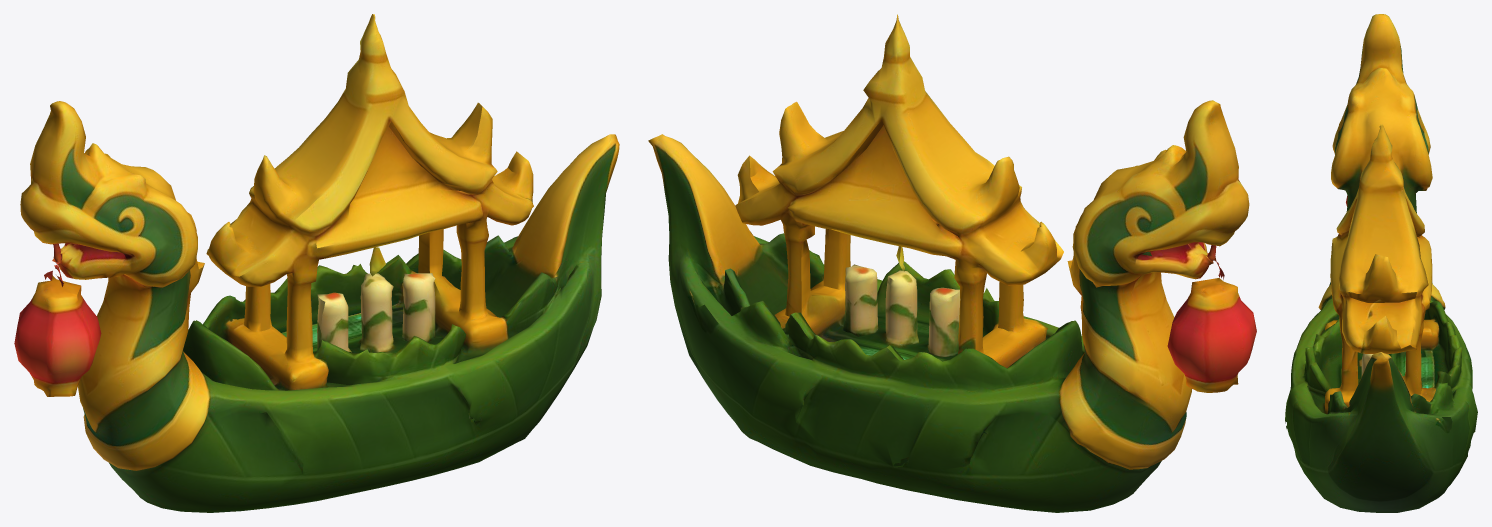
File: giant1.glb
3 renders of one model, left to right at view 1: azimuth 30°, elevation 25°; view 2: azimuth 150°, elevation 25°; view 3: azimuth 270°, elevation 25°, orthographic. The views are drawn at different scales.
Parts seen in each view (by area): view 1: tripo_node_dbdd461d-368f-43f1-b494-fdf68d4070e1; view 2: tripo_node_dbdd461d-368f-43f1-b494-fdf68d4070e1; view 3: tripo_node_dbdd461d-368f-43f1-b494-fdf68d4070e1.
Part boxes in pixels (<box>): tripo_node_dbdd461d-368f-43f1-b494-fdf68d4070e1: <box>14,14,619,512</box>; tripo_node_dbdd461d-368f-43f1-b494-fdf68d4070e1: <box>648,14,1256,512</box>; tripo_node_dbdd461d-368f-43f1-b494-fdf68d4070e1: <box>1285,14,1477,512</box>.
Size of the model in its own units: 0.9816 by 0.6751 by 0.351.
1 material, 1 textured.
